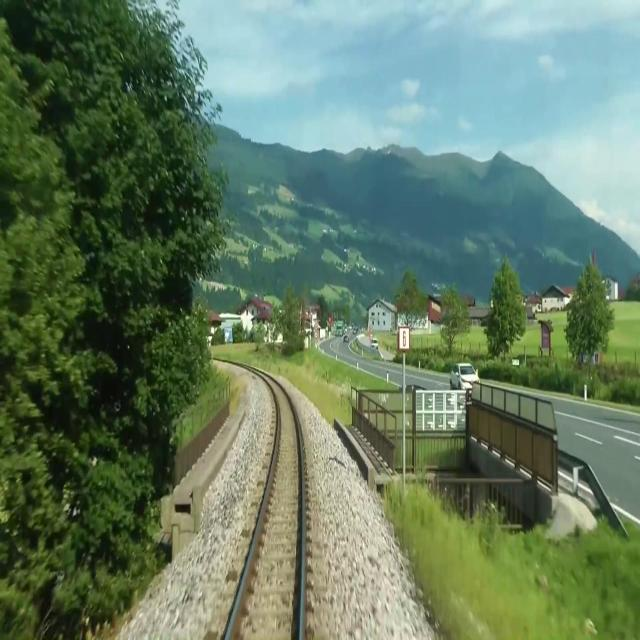rail-track: (229, 380, 300, 639)
